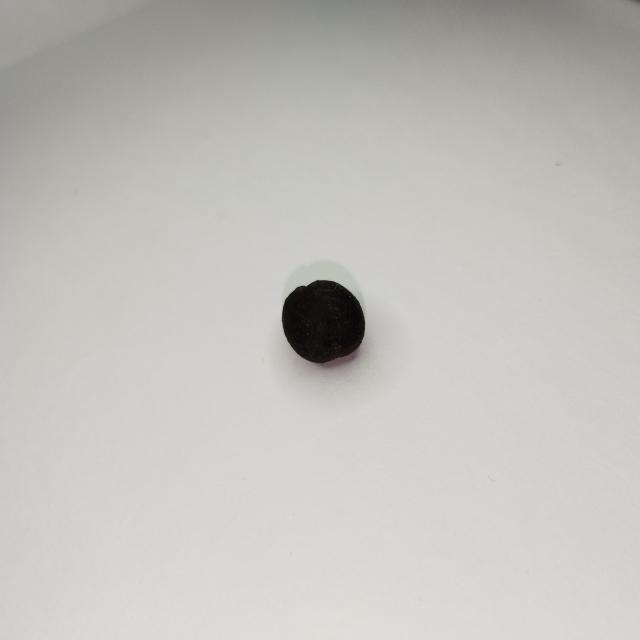Danado: (282, 281, 366, 364)
